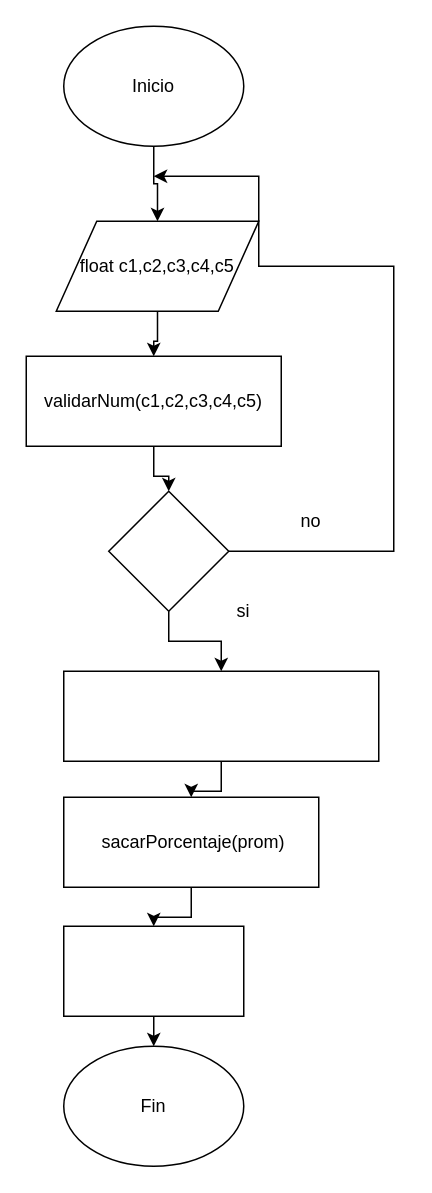
Image size: 432x1193. Some labels were removed from this diagram. The shapes that lost their labels are listed below. From the top down, each one's centre as x and y in pixels, then its label:
At pixel 168 550: "valido=TRUE".
At pixel 220 715: "promedioCalificacion(c1,c2,c3,c4,c5)".
At pixel 153 970: "casos(porcentaje)".
